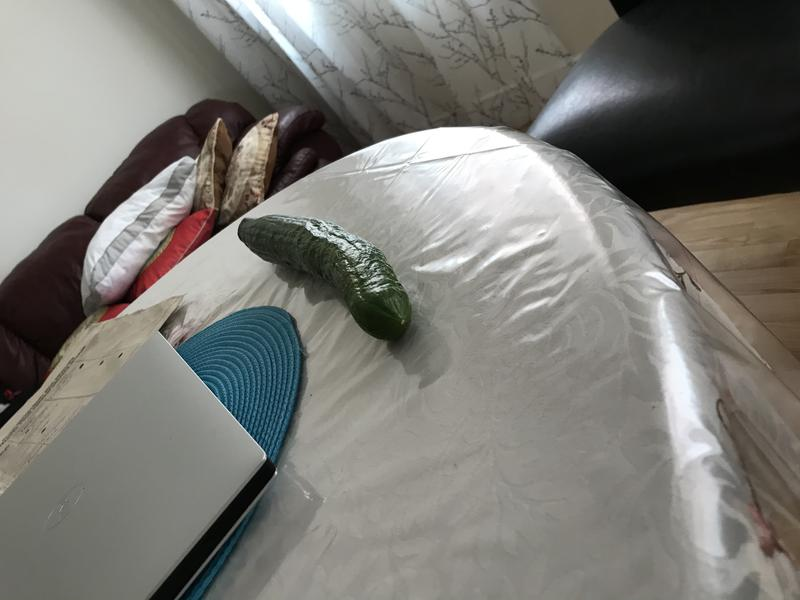cucumber: (230, 211, 426, 347)
